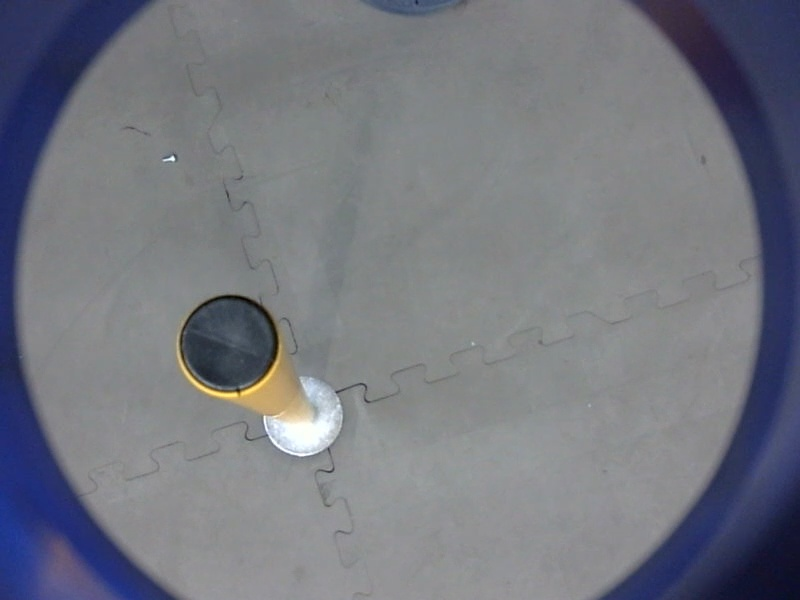tip: (172, 289, 286, 400)
